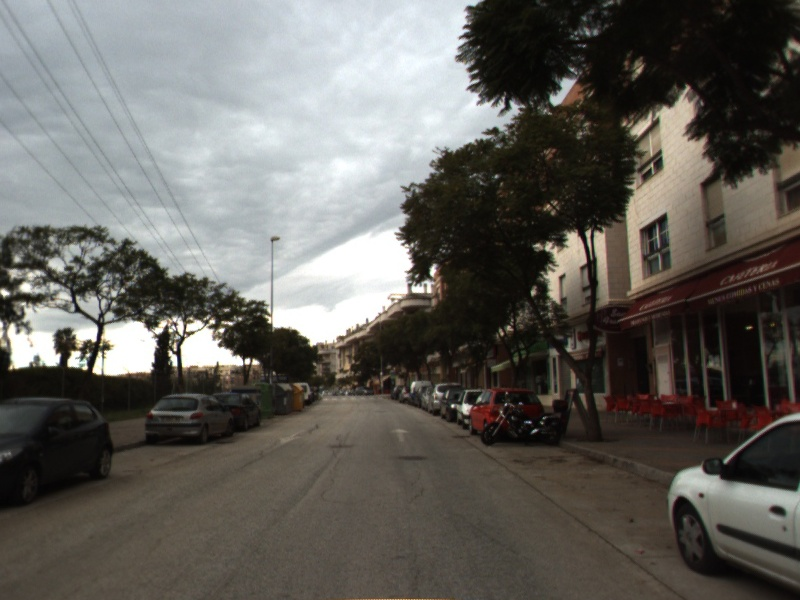STRAIGHT: (387, 426, 413, 444)
